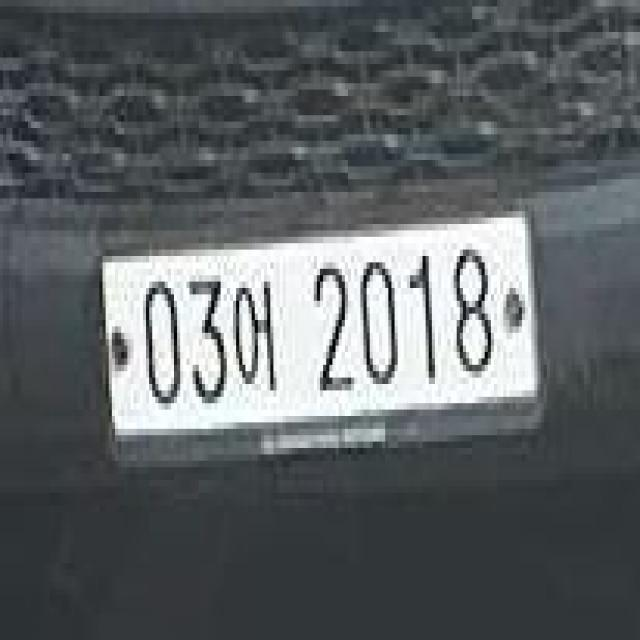illegal_plate: (99, 206, 543, 474)
